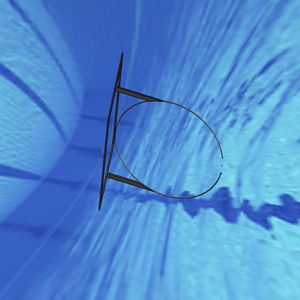circle: (94, 50, 226, 212)
